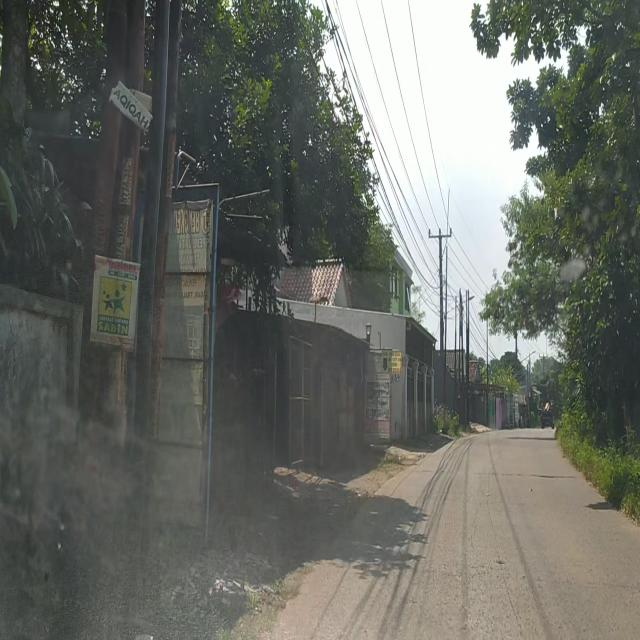Sewer Cover: (417, 469, 580, 482)
